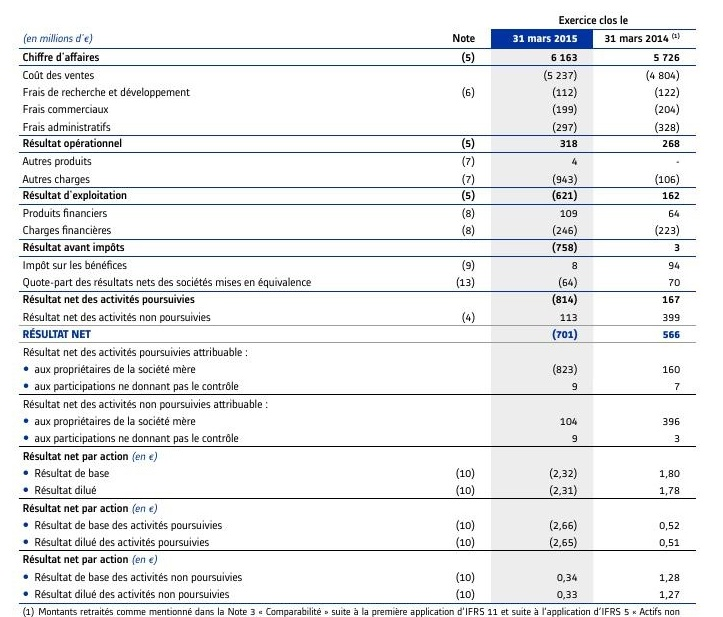table: (0, 0, 723, 617)
